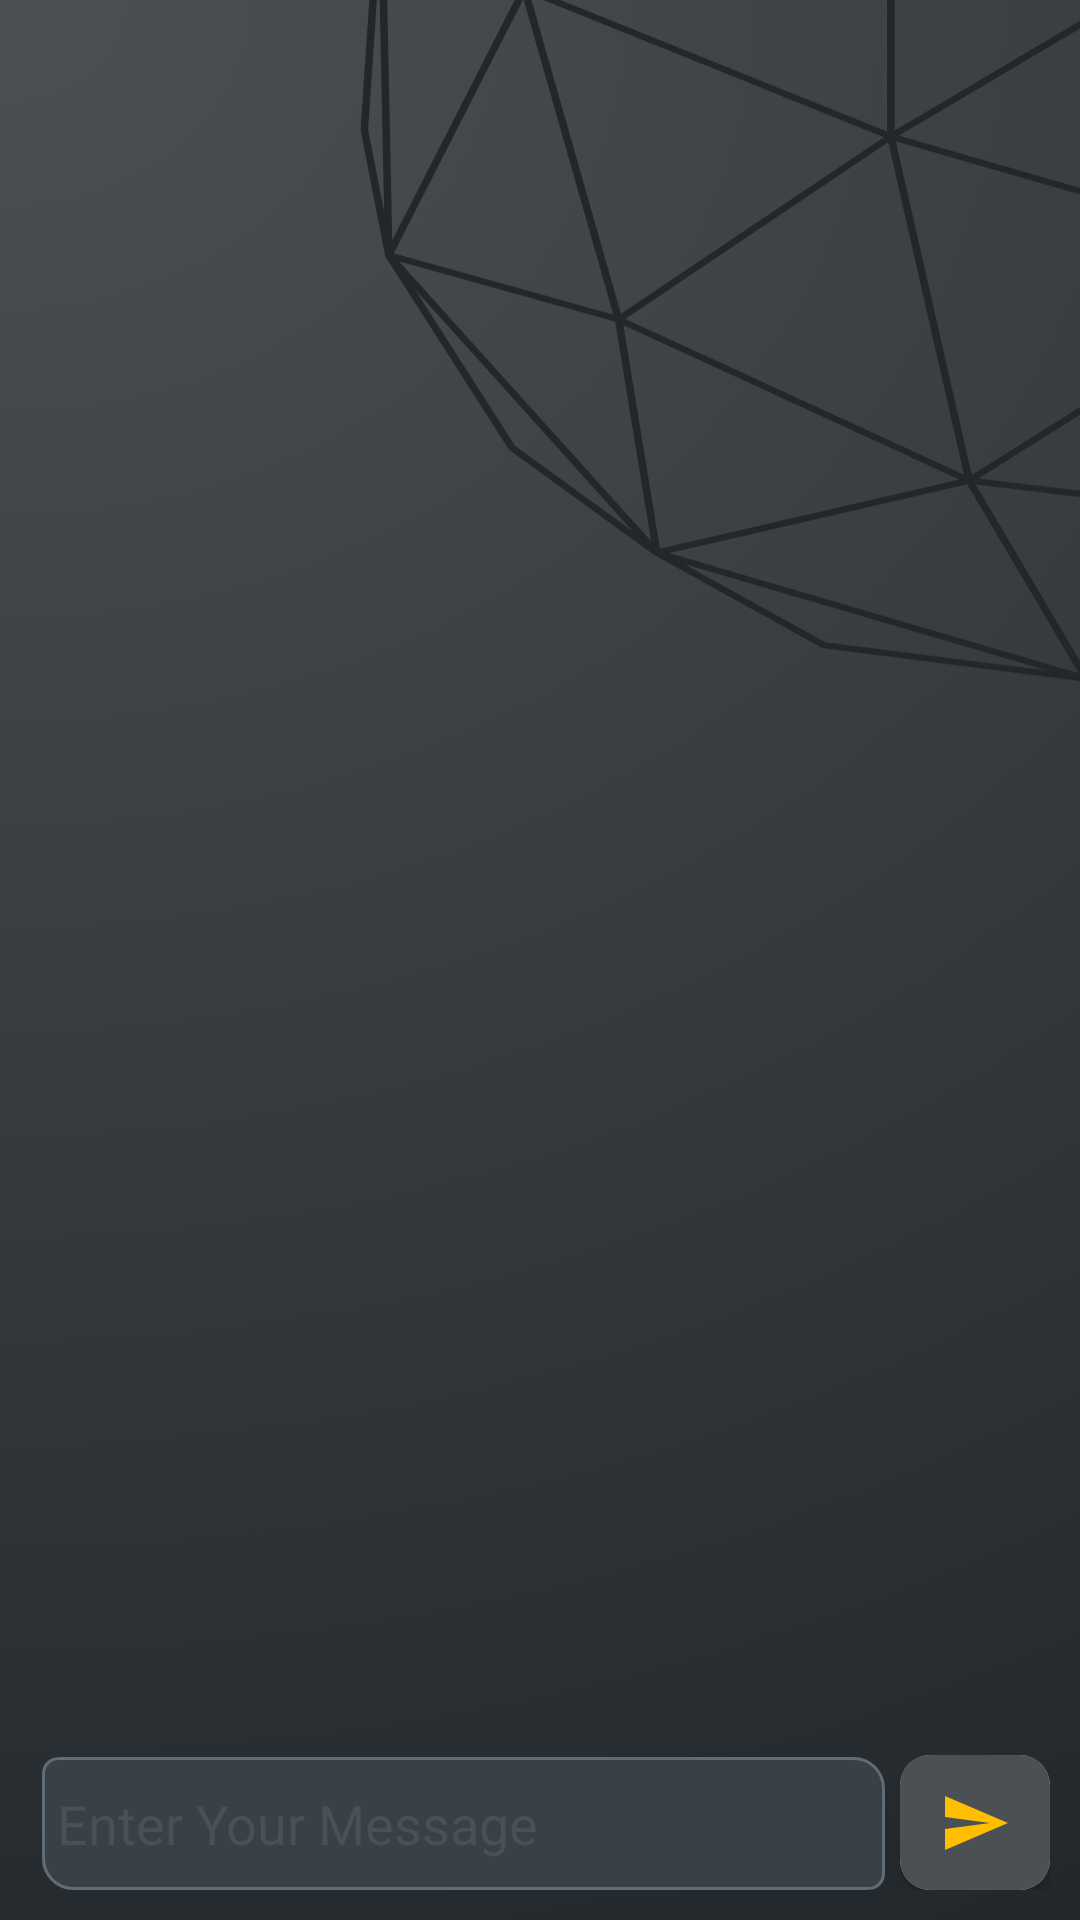

Where icons sit on this 1080×1920 app screen, as (x1, y1, x2, y2):
send: (900, 1755, 1050, 1890)
